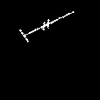treble_crochet: (20, 11, 73, 41)
